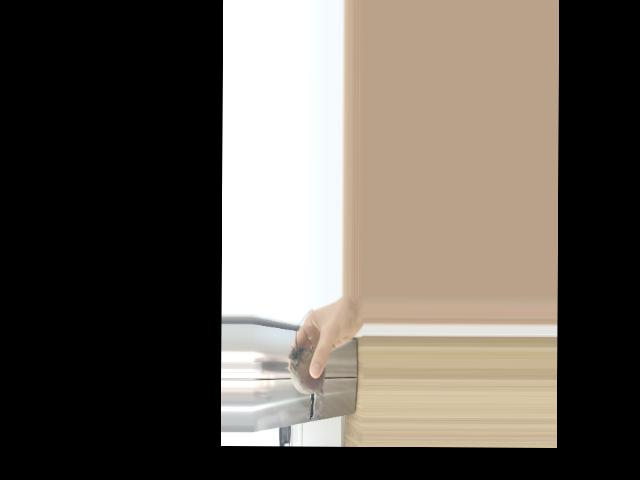beet: (288, 309, 325, 402)
